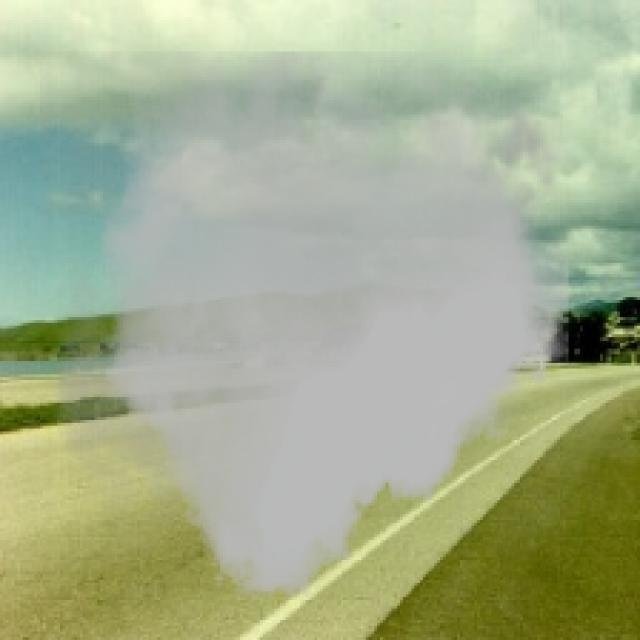Smoke: (40, 52, 577, 598)
